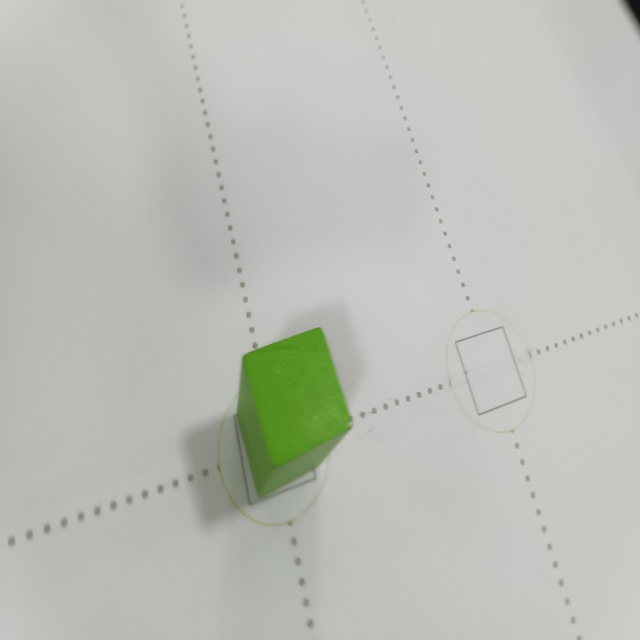green rectangular prism: (232, 326, 361, 503)
